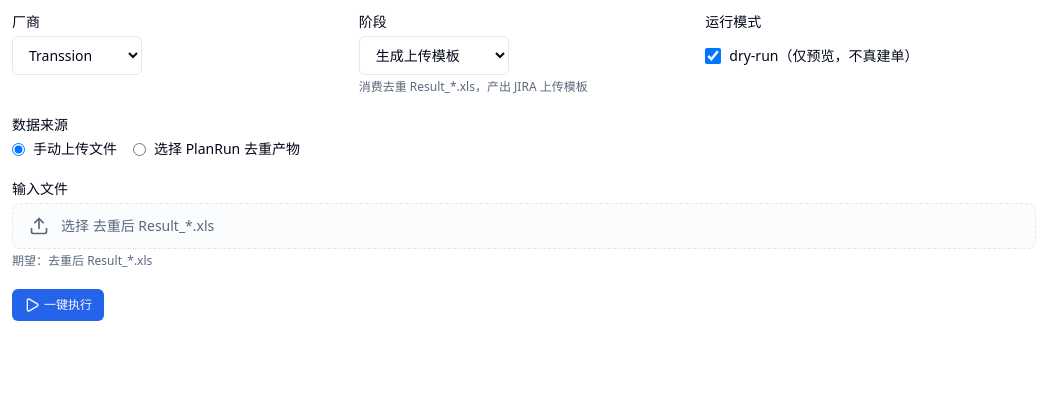
Test case: JiraSubmitPanel › create stage shows reporter input; upload_list hides it
This screenshot has width=1048, height=420.
Note: 切到 create：reporter 显示
Select "建单" in the dropdown with test id "jira-stage": (434, 56) [359,36,509,75]
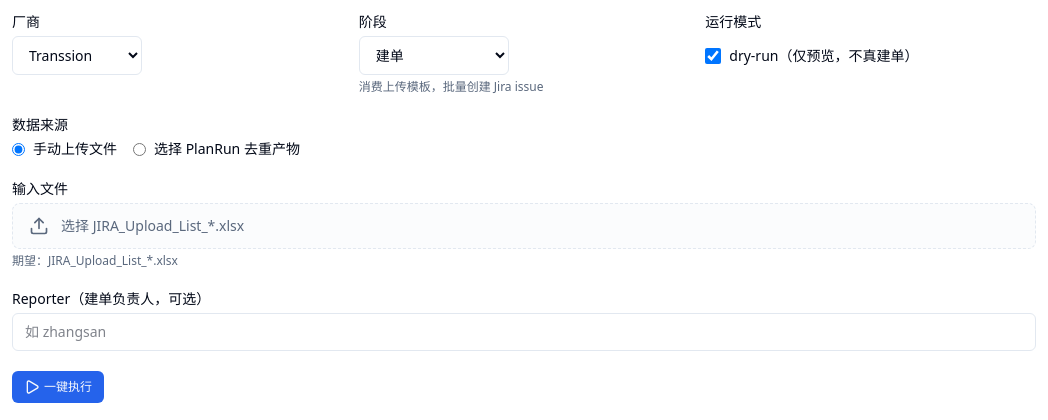
Check: the field with test id "jira-reporter" is shown, box [12,313,1036,351]
